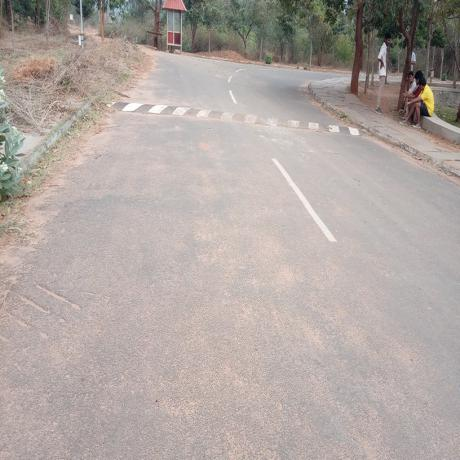Speed Bump: (102, 97, 358, 136)
